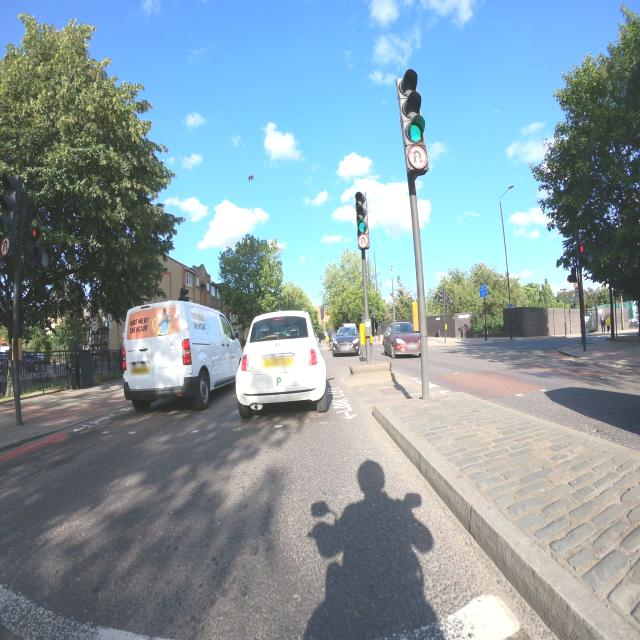car: (122, 300, 244, 413), (236, 309, 328, 419), (382, 320, 422, 358), (332, 323, 360, 357)
